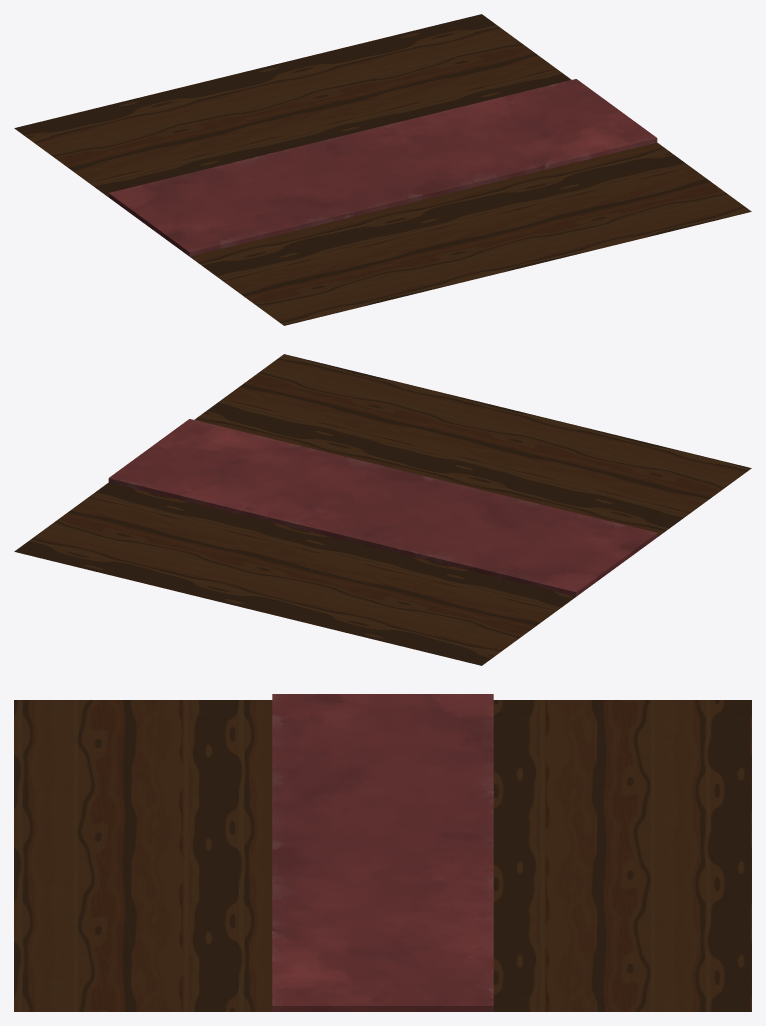
The model's file is Floor_I.fbx.
3 renders of one model, top to bottom at view 1: azimuth 30°, elevation 25°; view 2: azimuth 150°, elevation 25°; view 3: azimuth 270°, elevation 25°, orthographic. The views are drawn at different scales.
Visible parts, largest first — view 1: floor_I; view 2: floor_I; view 3: floor_I.
Boxes of the visible parts, x1=… form: floor_I: x1=14, y1=14, x2=751, y2=325; floor_I: x1=14, y1=354, x2=751, y2=665; floor_I: x1=14, y1=694, x2=751, y2=1011.
Bounding box in the file's own units: 1650 × 15 × 1650.
Materials: 1 (1 with a texture image).
